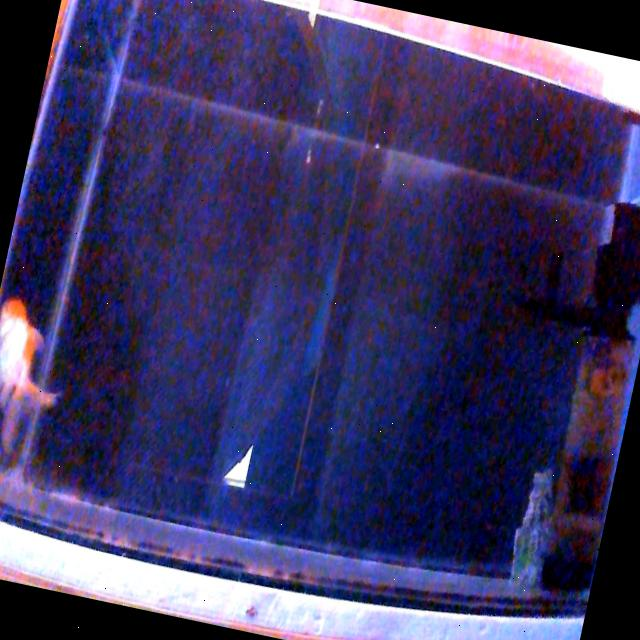fish: (0, 293, 79, 476)
